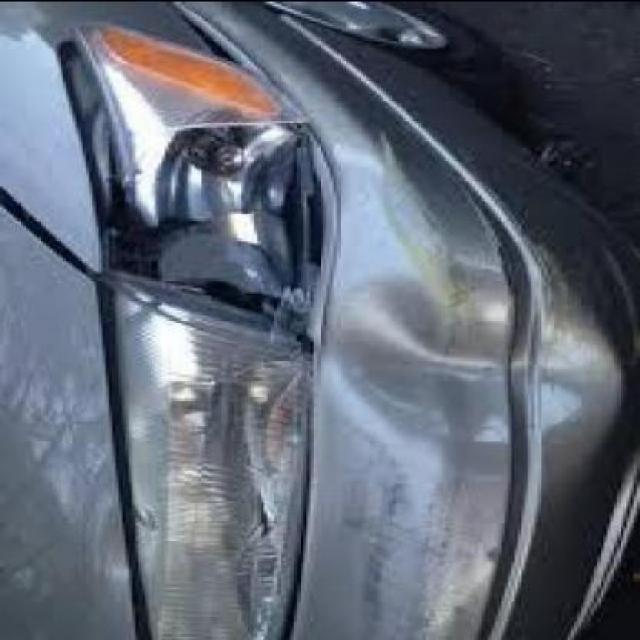damage: (55, 71, 626, 474)
